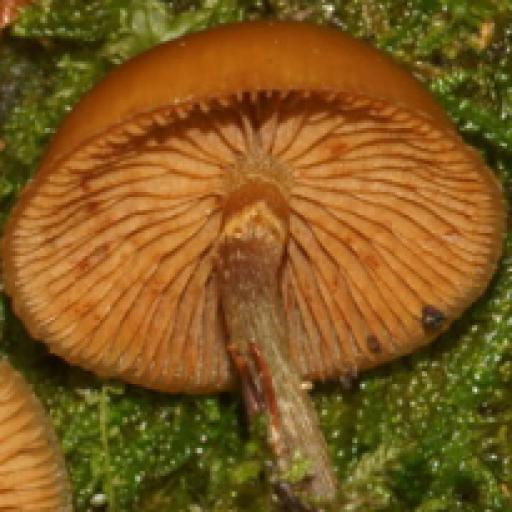mushroom: (3, 16, 509, 421)
